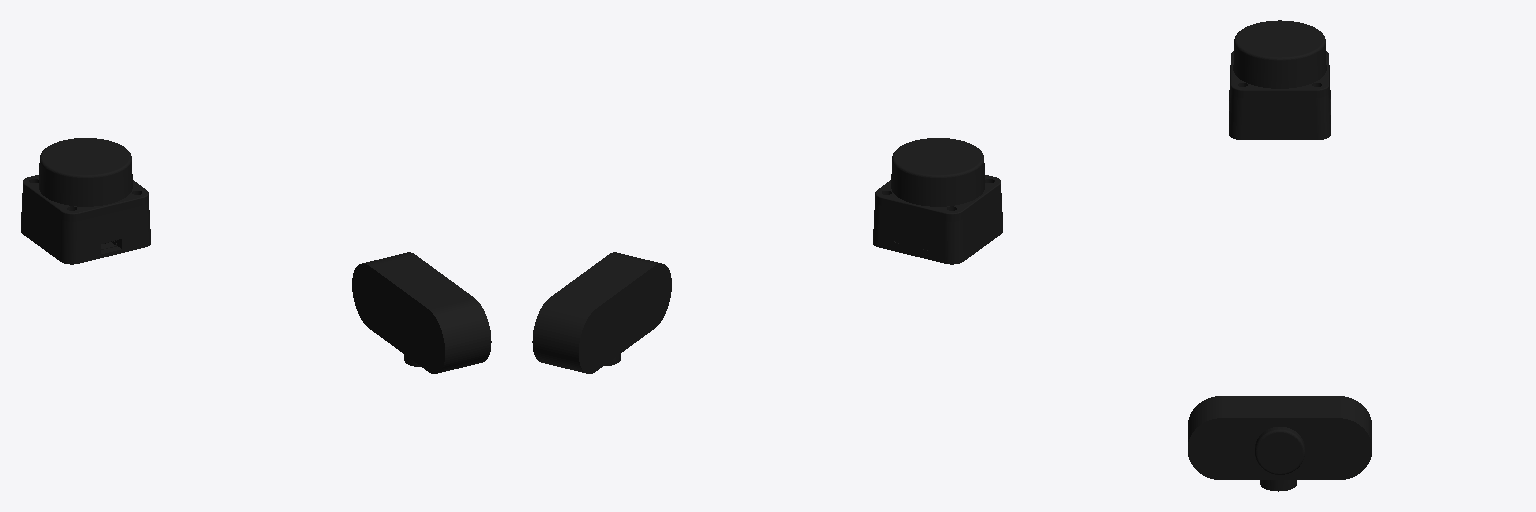
The robot description file, URDF, robot "lekiwi":
<?xml version="1.0" ?>
<!-- =================================================================================== -->
<!-- |    This document was autogenerated by xacro from base.urdf.xacro                | -->
<!-- |    EDITING THIS FILE BY HAND IS NOT RECOMMENDED                                 | -->
<!-- =================================================================================== -->
<robot name="lekiwi">
  <!-- Base mesh rotation about Z (rad) -->
  <!-- LIDAR mesh rotation about X (rad) -->
  <!-- Camera mesh/joint rotation about Y (rad) -->
  <!-- Velocity mode -->
  <!-- 120° between wheels -->
  <!-- N⋅m (30 kgf⋅cm for STS3215) -->
  <!-- Omnidirectional Kinematics Calculations -->
  <!-- For 3-wheel omni drive: ω_i = (-sin(θ_i)·v_x + cos(θ_i)·v_y + R·ω_z) / r -->
  <!-- Define custom materials for base and wheels using color properties -->
  <material name="light_grey">
    <color rgba="0.8 0.8 0.8 1.0"/>
  </material>
  <material name="charcoal">
    <color rgba="0.15 0.15 0.15 1.0"/>
  </material>
  <!-- LINKS -->
  <!-- Base footprint link (empty) -->
  <link name="base_footprint"/>
  <!-- Base link -->
  <link name="base_link">
    <visual>
      <origin rpy="0 0 4.71238898038469" xyz="0 0 0"/>
      <geometry>
        <mesh filename="../meshes/lekiwi_base.stl"/>
      </geometry>
      <material name="light_grey"/>
    </visual>
    <collision>
      <origin rpy="0 0 4.71238898038469" xyz="0 0 0"/>
      <geometry>
        <mesh filename="../meshes/lekiwi_base.stl"/>
      </geometry>
    </collision>
    <inertial>
      <mass value="2.0"/>
      <inertia ixx="0.01" ixy="0.0" ixz="0.0" iyy="0.01" iyz="0.0" izz="0.02"/>
    </inertial>
  </link>
  <!-- LD06 laser link -->
  <link name="laser_link">
    <visual>
      <origin rpy="1.5707963267948966 0 0" xyz="0 0 0"/>
      <geometry>
        <mesh filename="../meshes/ld06_lidar.stl"/>
      </geometry>
      <material name="charcoal"/>
    </visual>
    <collision>
      <origin rpy="1.5707963267948966 0 0" xyz="0 0 0"/>
      <geometry>
        <mesh filename="../meshes/ld06_lidar.stl"/>
      </geometry>
    </collision>
    <inertial>
      <mass value="0.2"/>
      <inertia ixx="0.0001" ixy="0.0" ixz="0.0" iyy="0.0001" iyz="0.0" izz="0.0001"/>
    </inertial>
  </link>
  <!-- Laser frame -->
  <link name="laser_frame"/>
  <!-- Camera link -->
  <link name="camera_link">
    <visual>
      <origin rpy="0 0 0" xyz="0 0 0"/>
      <geometry>
        <mesh filename="../meshes/hd_webcam.stl"/>
      </geometry>
      <material name="charcoal"/>
    </visual>
    <collision>
      <origin rpy="0 0 0" xyz="0 0 0"/>
      <geometry>
        <mesh filename="../meshes/hd_webcam.stl"/>
      </geometry>
    </collision>
    <inertial>
      <mass value="0.05"/>
      <inertia ixx="0.00001" ixy="0.0" ixz="0.0" iyy="0.00001" iyz="0.0" izz="0.00001"/>
    </inertial>
  </link>
  <!-- Camera frame-->
  <link name="camera_frame"/>
  <!-- Left wheel link -->
  <link name="left_wheel_link">
    <visual>
      <origin rpy="0 0 0" xyz="0 0 0"/>
      <geometry>
        <mesh filename="../meshes/omni_wheel.stl"/>
      </geometry>
      <material name="charcoal"/>
    </visual>
    <collision>
      <origin rpy="0 0 0" xyz="0 0 0"/>
      <geometry>
        <mesh filename="../meshes/omni_wheel.stl"/>
      </geometry>
    </collision>
    <inertial>
      <mass value="0.1"/>
      <inertia ixx="0.001" ixy="0.0" ixz="0.0" iyy="0.001" iyz="0.0" izz="0.001"/>
    </inertial>
  </link>
  <!-- Back wheel link -->
  <link name="back_wheel_link">
    <visual>
      <origin rpy="0 0 0" xyz="0 0 0"/>
      <geometry>
        <mesh filename="../meshes/omni_wheel.stl"/>
      </geometry>
      <material name="charcoal"/>
    </visual>
    <collision>
      <origin rpy="0 0 0" xyz="0 0 0"/>
      <geometry>
        <mesh filename="../meshes/omni_wheel.stl"/>
      </geometry>
    </collision>
    <inertial>
      <mass value="0.1"/>
      <inertia ixx="0.001" ixy="0.0" ixz="0.0" iyy="0.001" iyz="0.0" izz="0.001"/>
    </inertial>
  </link>
  <!-- Right wheel link -->
  <link name="right_wheel_link">
    <visual>
      <origin rpy="0 0 0" xyz="0 0 0"/>
      <geometry>
        <mesh filename="../meshes/omni_wheel.stl"/>
      </geometry>
      <material name="charcoal"/>
    </visual>
    <collision>
      <origin rpy="0 0 0" xyz="0 0 0"/>
      <geometry>
        <mesh filename="../meshes/omni_wheel.stl"/>
      </geometry>
    </collision>
    <inertial>
      <mass value="0.1"/>
      <inertia ixx="0.001" ixy="0.0" ixz="0.0" iyy="0.001" iyz="0.0" izz="0.001"/>
    </inertial>
  </link>
  <!-- JOINTS -->
  <!-- base_footprint fixed joint -->
  <joint name="base_footprint_joint" type="fixed">
    <parent link="base_footprint"/>
    <child link="base_link"/>
    <origin rpy="0 0 0" xyz="0 0 0.040639999999999996"/>
  </joint>
  <!-- laser fixed joint -->
  <joint name="laser_joint" type="fixed">
    <parent link="base_link"/>
    <child link="laser_link"/>
    <origin rpy="0 0 0" xyz="-0.045042 0 0.0915"/>
  </joint>
  <!-- laser_frame fixed joint -->
  <joint name="laser_frame_joint" type="fixed">
    <parent link="laser_link"/>
    <child link="laser_frame"/>
    <origin rpy="0 0 0" xyz="0 0 0.027"/>
  </joint>
  <!-- camera fixed joint -->
  <joint name="camera_joint" type="fixed">
    <parent link="base_link"/>
    <child link="camera_link"/>
    <origin rpy="0 1.5707963267948966 0" xyz="0.114 0 0.026"/>
  </joint>
  <!-- camera_frame fixed joint -->
  <joint name="camera_frame_joint" type="fixed">
    <parent link="camera_link"/>
    <child link="camera_frame"/>
    <origin rpy="0 0 0" xyz="0 0 0"/>
  </joint>
  <!-- left wheel joint: 60 degrees anti-clockwise from +X at radius wheel_base_radius -->
  <joint name="left_wheel_joint" type="continuous">
    <parent link="base_link"/>
    <child link="left_wheel_link"/>
    <origin rpy="0 1.5707963267948966 1.0471975511965976" xyz="0.06611950000000001 0.11452233337105037 0.01036"/>
    <axis xyz="0 0 1"/>
    <limit effort="2.942" velocity="4.218447166685513"/>
  </joint>
  <!-- back wheel joint: 180 degrees anti-clockwise from +X at radius base_radius -->
  <joint name="back_wheel_joint" type="continuous">
    <parent link="base_link"/>
    <child link="back_wheel_link"/>
    <origin rpy="0 1.5707963267948966 3.141592653589793" xyz="-0.132239 1.6194606807244685e-17 0.01036"/>
    <axis xyz="0 0 1"/>
    <limit effort="2.942" velocity="4.218447166685513"/>
  </joint>
  <!-- right wheel joint: 300 degrees (or -60 degrees) anti-clockwise from +X at radius base_radius -->
  <joint name="right_wheel_joint" type="continuous">
    <parent link="base_link"/>
    <child link="right_wheel_link"/>
    <origin rpy="0 1.5707963267948966 -1.0471975511965976" xyz="0.06611950000000001 -0.11452233337105037 0.01036"/>
    <axis xyz="0 0 1"/>
    <limit effort="2.942" velocity="4.218447166685513"/>
  </joint>
  <!-- ROS 2 CONTROL -->
  <!-- System interface -->
  <ros2_control name="lekiwi_base" type="system">
    <hardware>
      <plugin>sts_hardware_interface/STSHardwareInterface</plugin>
      <!-- Serial communication parameters -->
      <param name="serial_port">/dev/ttySERVO</param>
      <param name="baud_rate">1000000</param>
      <param name="use_sync_write">True</param>
      <param name="enable_mock_mode">False</param>
    </hardware>
    <!-- Left wheel joint (Motor ID 7) -->
    <joint name="left_wheel_joint">
      <param name="motor_id">7</param>
      <param name="operating_mode">1</param>
      <command_interface name="velocity"/>
      <command_interface name="acceleration"/>
      <state_interface name="position"/>
      <state_interface name="velocity"/>
      <state_interface name="effort"/>
      <state_interface name="voltage"/>
      <state_interface name="temperature"/>
      <state_interface name="current"/>
      <state_interface name="is_moving"/>
    </joint>
    <!-- Back wheel joint (Motor ID 8) -->
    <joint name="back_wheel_joint">
      <param name="motor_id">8</param>
      <param name="operating_mode">1</param>
      <command_interface name="velocity"/>
      <command_interface name="acceleration"/>
      <state_interface name="position"/>
      <state_interface name="velocity"/>
      <state_interface name="effort"/>
      <state_interface name="voltage"/>
      <state_interface name="temperature"/>
      <state_interface name="current"/>
      <state_interface name="is_moving"/>
    </joint>
    <!-- Right wheel joint (Motor ID 9) -->
    <joint name="right_wheel_joint">
      <param name="motor_id">9</param>
      <param name="operating_mode">1</param>
      <command_interface name="velocity"/>
      <command_interface name="acceleration"/>
      <state_interface name="position"/>
      <state_interface name="velocity"/>
      <state_interface name="effort"/>
      <state_interface name="voltage"/>
      <state_interface name="temperature"/>
      <state_interface name="current"/>
      <state_interface name="is_moving"/>
    </joint>
  </ros2_control>
</robot>

--- Render facts (derived) ---
3 views of the same robot in one strip: view 1: azimuth 30°, elevation 25°; view 2: azimuth 150°, elevation 25°; view 3: azimuth 270°, elevation 25° (orthographic).
Model lekiwi with 9 links and 8 joints (3 continuous, 5 fixed), rooted at base_footprint, posed all joints at 0.
Links seen in each view (by area): view 1: laser_link, camera_link; view 2: laser_link, camera_link; view 3: camera_link, laser_link.
Boxes of the visible links, box(x1,y1,x2,y2) form: laser_link: box(21, 138, 150, 264); camera_link: box(352, 252, 491, 373); laser_link: box(873, 138, 1002, 264); camera_link: box(532, 252, 671, 373); camera_link: box(1188, 396, 1371, 491); laser_link: box(1229, 20, 1330, 139).
Size in the robot's own frame: 0.1783 by 0.07 by 0.1178 metres.
2 mesh visuals loaded from 4 distinct referenced files (2 binary STL); not drawn: 4 (reference not matched to a file when rendering).